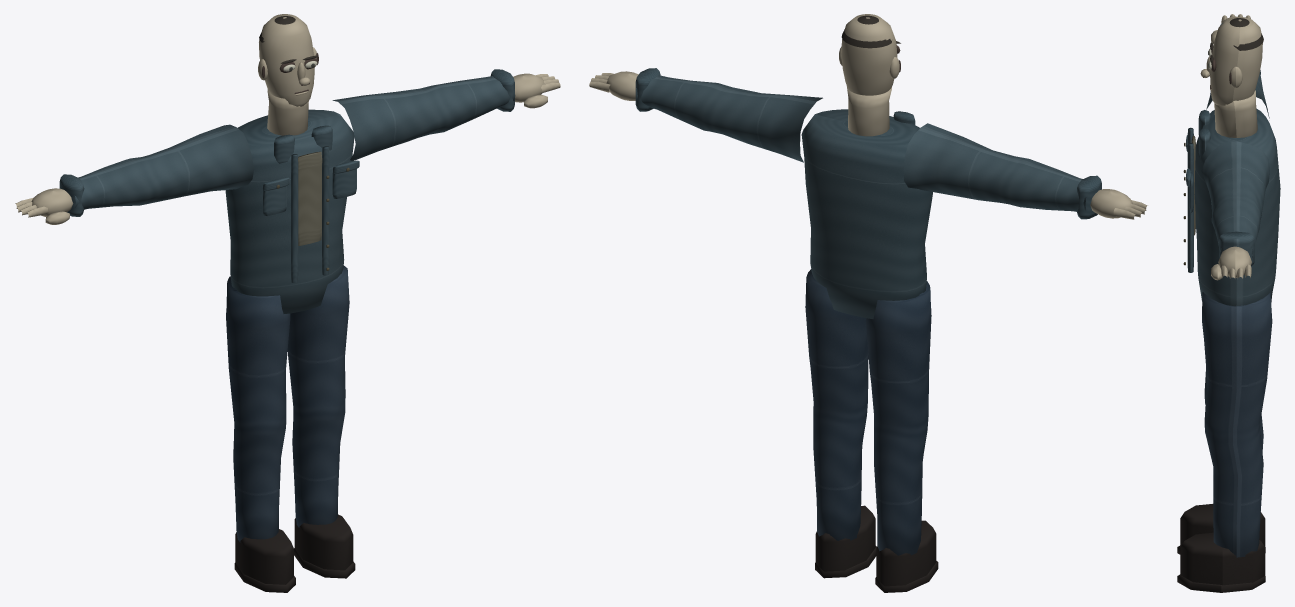
Rendered from Eerie_Customer_TPose.glb.
3 views of the same model, side by side, from view 1: azimuth 30°, elevation 25°; view 2: azimuth 150°, elevation 25°; view 3: azimuth 270°, elevation 25° (orthographic). The views are drawn at different scales.
Parts seen in each view (by area): view 1: jeans_leg (×2), denim_sleeve (×2), Jacket_body, boot (×2), head, undershirt_front, jacket_front_placket (×2), neck, hand; view 2: jeans_leg (×2), Jacket_body, denim_sleeve (×2), boot (×2), head, neck, hand (×2), sleeve_cuff; view 3: jeans_leg (×2), Jacket_body, denim_sleeve (×2), boot (×2), head, neck, boot_sole, jacket_front_placket, sleeve_cuff, hand, collar (×2), receding_hair (+3 smaller).
Part boxes in pixels (x1=…): jeans_leg (×2): x1=226, y1=265, x2=349, y2=542; denim_sleeve (×2): x1=75, y1=76, x2=515, y2=209; Jacket_body: x1=225, y1=109, x2=354, y2=313; boot (×2): x1=235, y1=514, x2=353, y2=584; head: x1=259, y1=14, x2=314, y2=106; undershirt_front: x1=298, y1=151, x2=322, y2=245; jacket_front_placket (×2): x1=291, y1=146, x2=329, y2=282; neck: x1=267, y1=89, x2=309, y2=135; hand: x1=31, y1=188, x2=73, y2=216; jeans_leg (×2): x1=805, y1=269, x2=931, y2=555; Jacket_body: x1=801, y1=109, x2=932, y2=318; denim_sleeve (×2): x1=636, y1=75, x2=1086, y2=211; boot (×2): x1=815, y1=505, x2=936, y2=586; head: x1=841, y1=14, x2=897, y2=95; neck: x1=847, y1=87, x2=891, y2=136; hand (×2): x1=606, y1=71, x2=1132, y2=218; sleeve_cuff: x1=1077, y1=175, x2=1101, y2=219; jeans_leg (×2): x1=1202, y1=292, x2=1272, y2=557; Jacket_body: x1=1194, y1=108, x2=1280, y2=306; denim_sleeve (×2): x1=1201, y1=70, x2=1269, y2=257; boot (×2): x1=1180, y1=504, x2=1265, y2=585; head: x1=1210, y1=17, x2=1262, y2=105; neck: x1=1214, y1=90, x2=1257, y2=137; boot_sole: x1=1177, y1=574, x2=1265, y2=592; jacket_front_placket: x1=1187, y1=143, x2=1193, y2=272; sleeve_cuff: x1=1219, y1=231, x2=1254, y2=266; hand: x1=1218, y1=246, x2=1251, y2=277; collar (×2): x1=1198, y1=110, x2=1210, y2=157; receding_hair: x1=1229, y1=18, x2=1263, y2=50.
Bounding box in the file's own units: 1.91 × 1.86 × 0.3161.
Materials: 10 (10 with a texture image).
